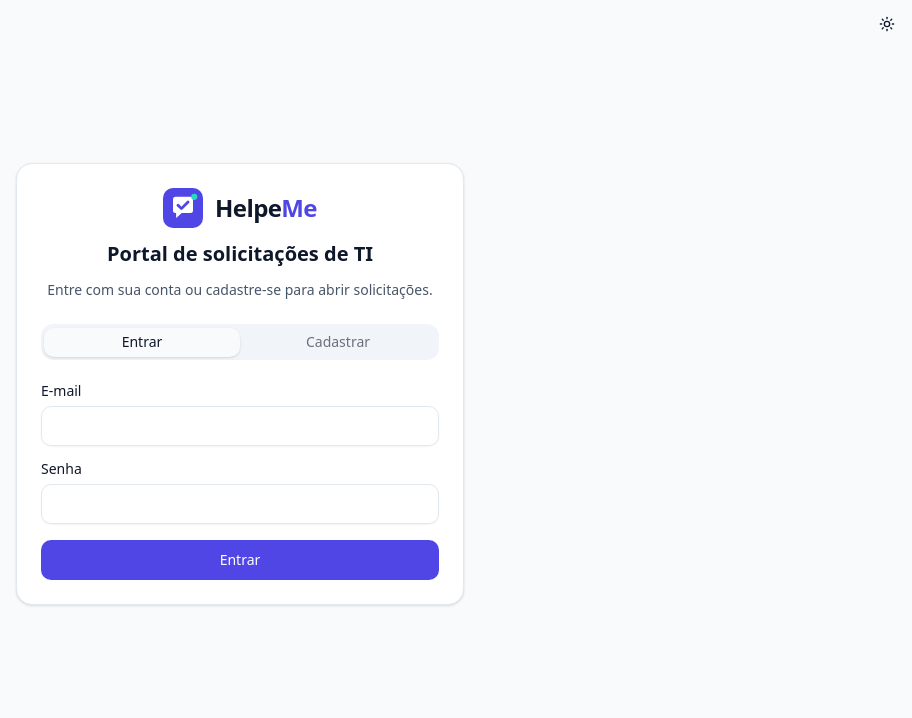
Test: AuthPage (UI-01) › AC-37: validates the sign-up password while typing
Step 1. Click the tab "Cadastrar" → (338, 342), box 240,328 -> 436,356
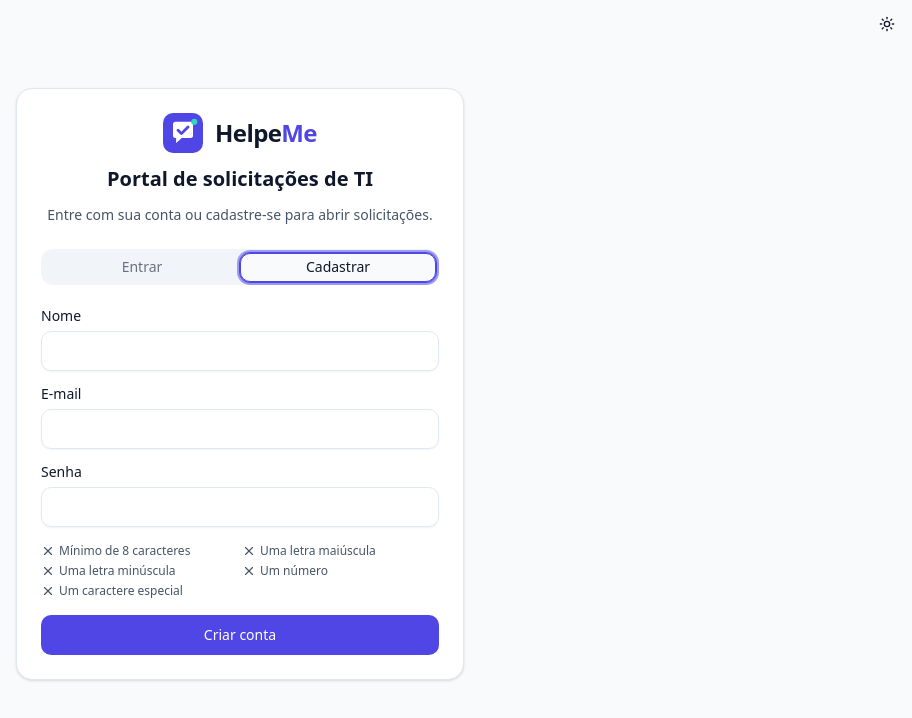
Step 2. Type "Senha12" into the password field labelled "Senha" → (240, 507), box 41,487 -> 439,527
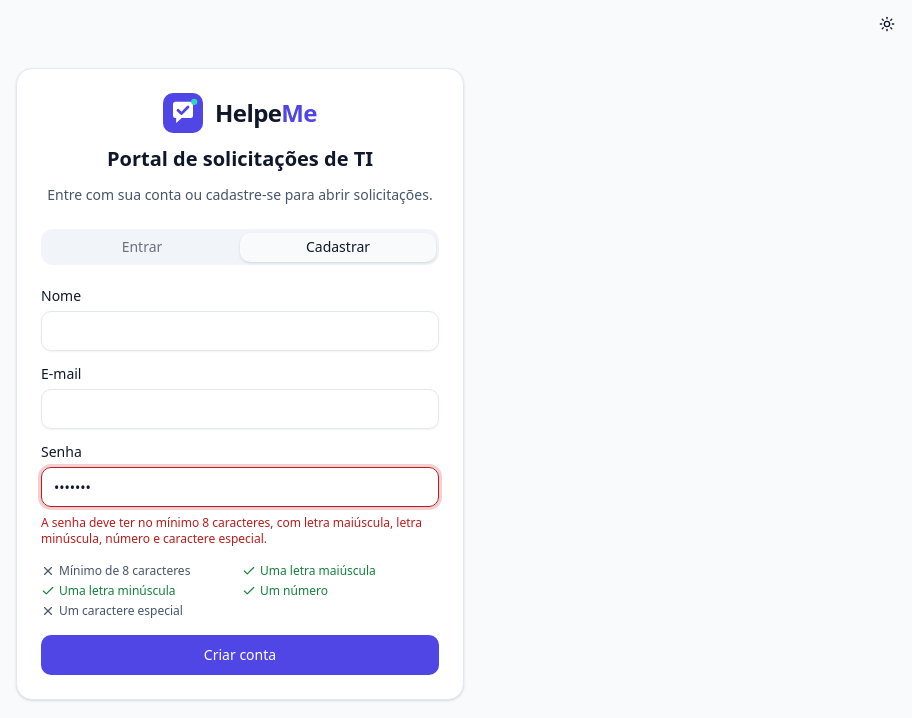
Check: the text "A senha deve ter no mínimo 8 caracteres" is shown, box 41,514 -> 422,547
Step 3. Type "3@" into the password field labelled "Senha" → (240, 487), box 41,467 -> 439,507
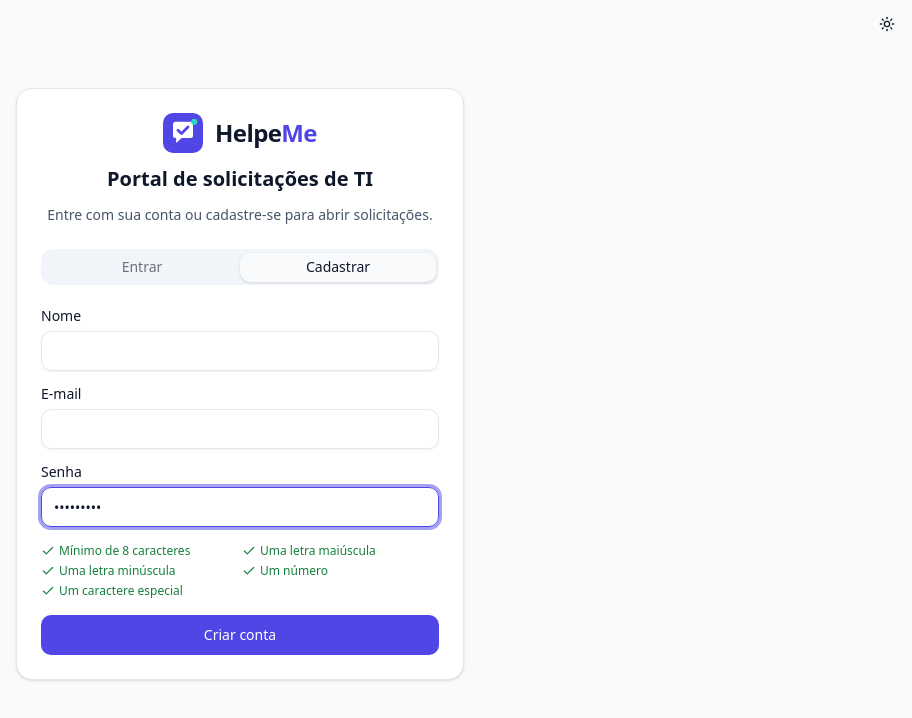
Check: the text "A senha deve ter no mínimo 8 caracteres" is gone
